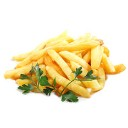frenchfries: (3, 33, 127, 97)
